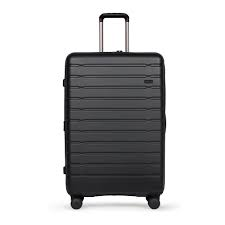suitcase: (60, 12, 171, 211)
